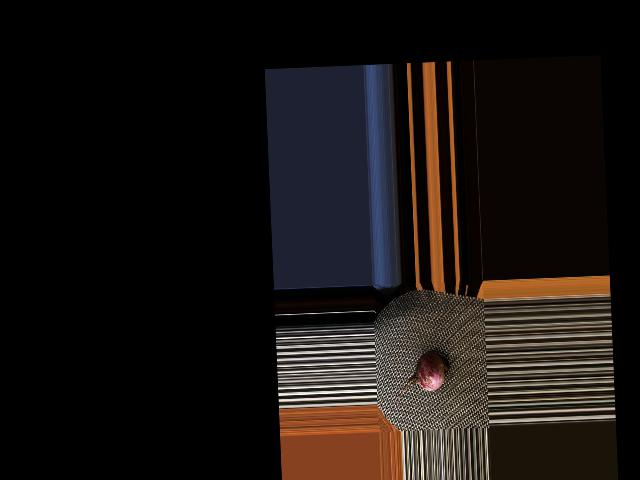beet: (393, 349, 452, 409)
